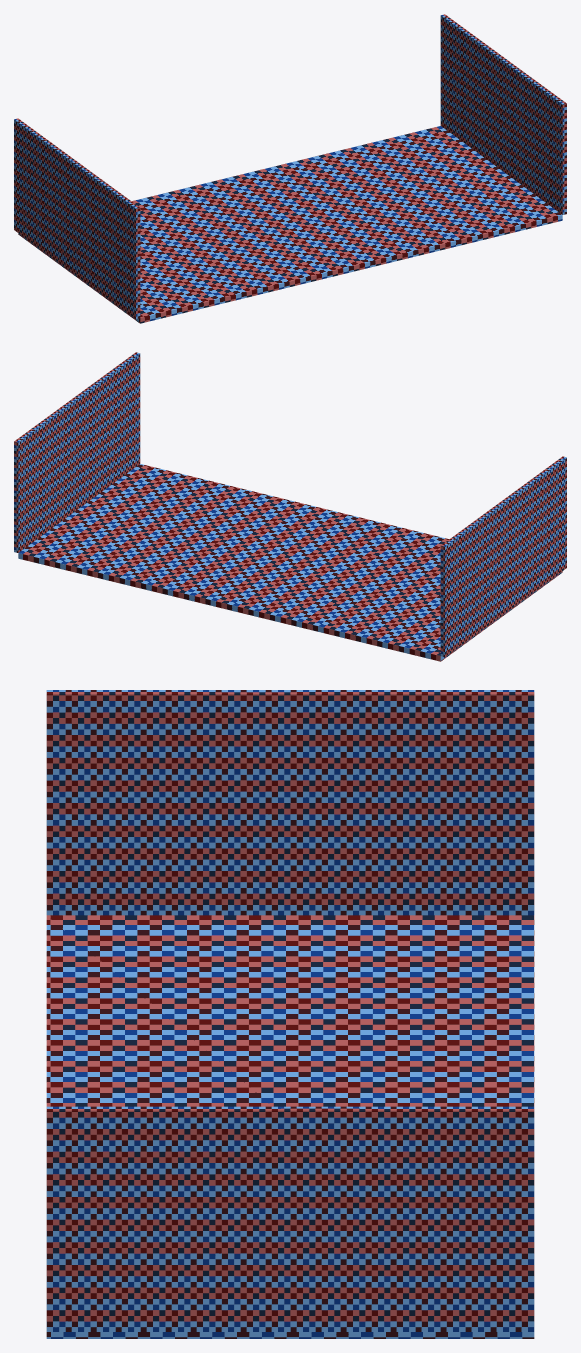
The model's file is catWalk_LargeHalf_rail_01.fbx.
3 renders of one model, top to bottom at view 1: azimuth 30°, elevation 25°; view 2: azimuth 150°, elevation 25°; view 3: azimuth 270°, elevation 25°, orthographic. The views are drawn at different scales.
Visible parts, largest first — view 1: catWalk_LargeHalf_rail_01; view 2: catWalk_LargeHalf_rail_01; view 3: catWalk_LargeHalf_rail_01.
Boxes of the visible parts, x1,y1,x2,y2 form: catWalk_LargeHalf_rail_01: (14, 14, 566, 323); catWalk_LargeHalf_rail_01: (14, 352, 566, 661); catWalk_LargeHalf_rail_01: (46, 690, 534, 1338).
Size of the model in its own units: 408 by 105 by 200.
Materials: 1 (1 with a texture image).
